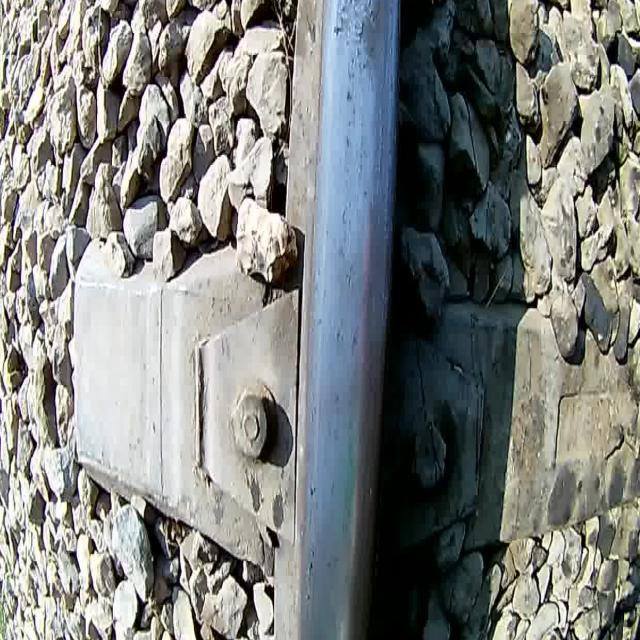Squats: (330, 0, 392, 107)
